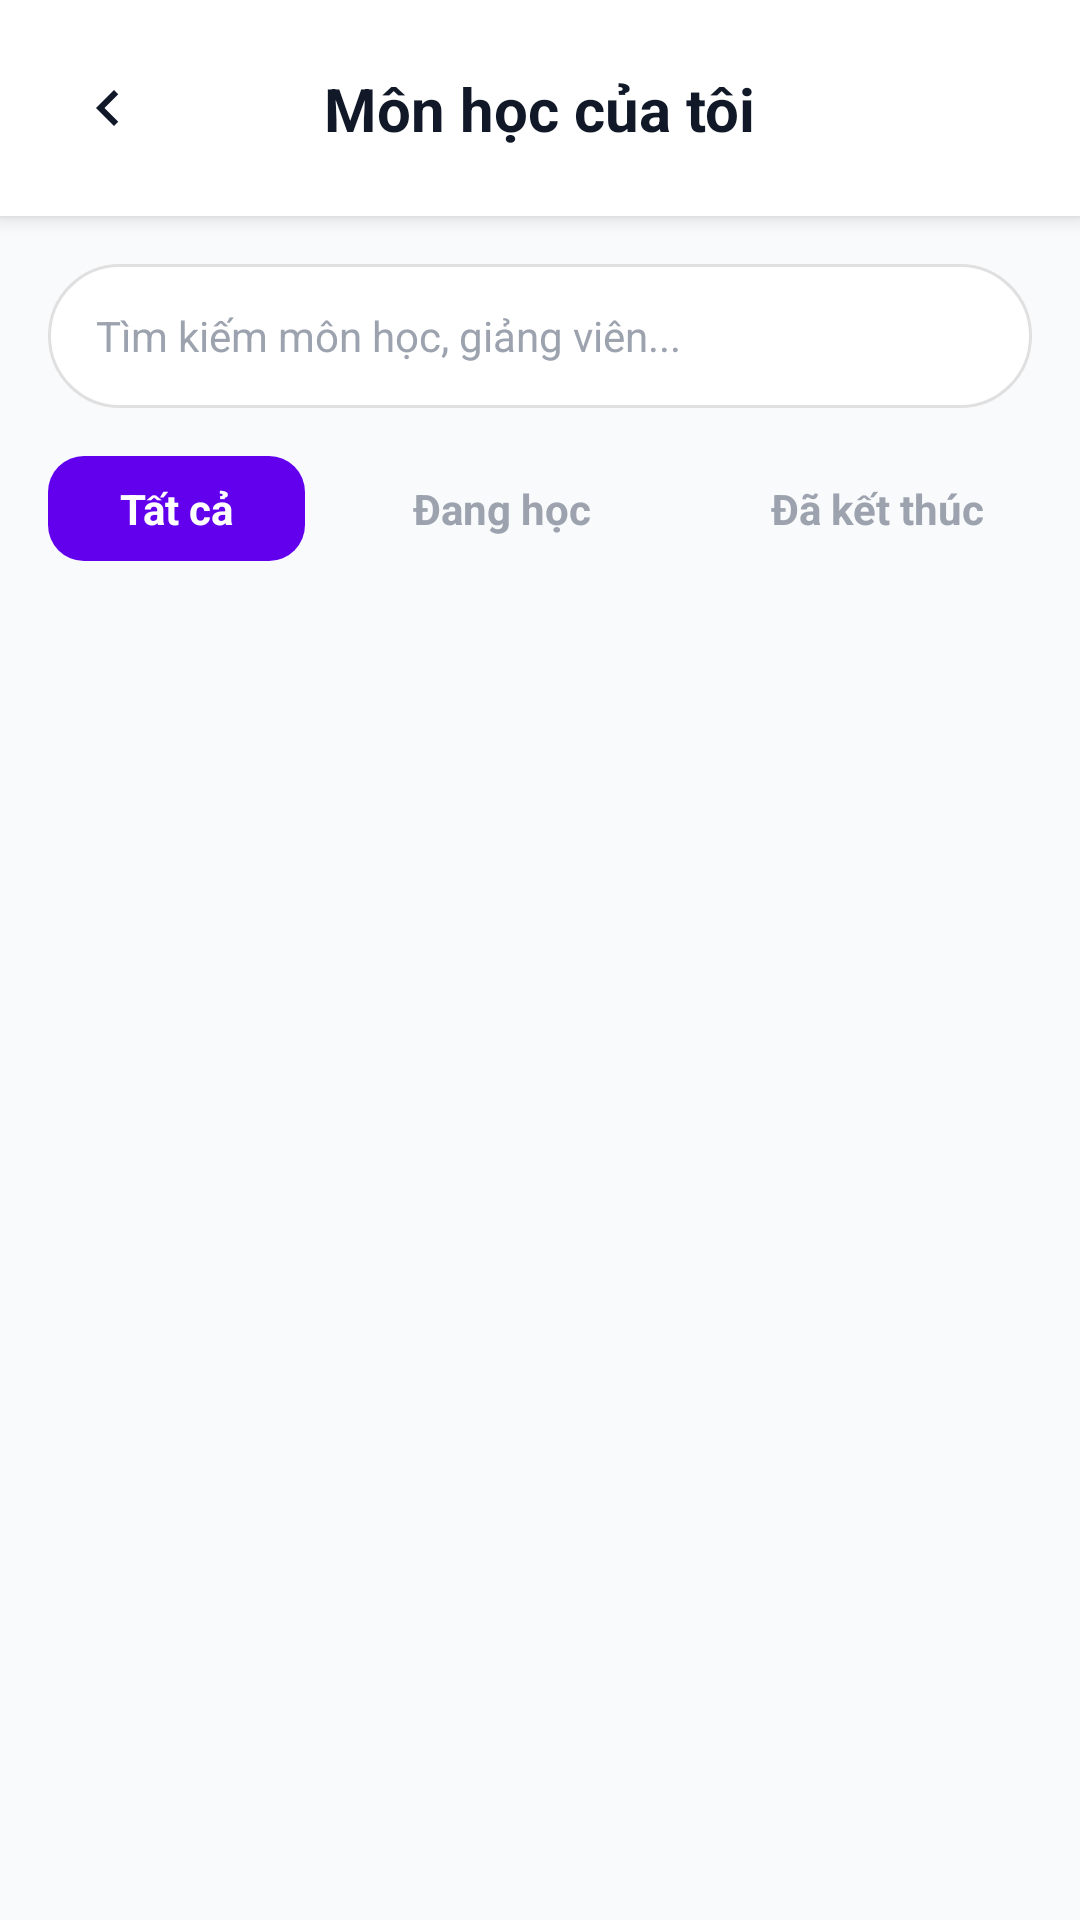

Where icons sit on this 1080*1920 app screen, as {"x1": x1, "y1": y1, "x2": x2, "y2": y2}:
chevron left: {"x1": 96, "y1": 90, "x2": 118, "y2": 126}
